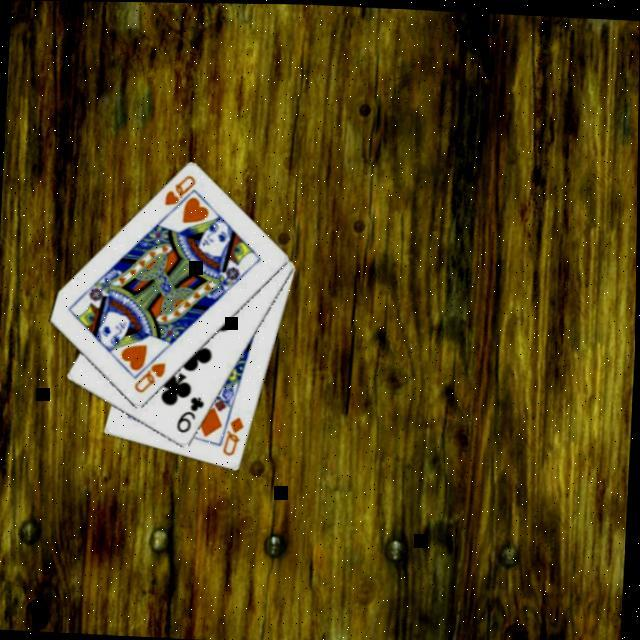9C: (172, 390, 208, 436)
QD: (218, 410, 248, 458)
QH: (160, 169, 200, 218), (130, 356, 168, 396)
